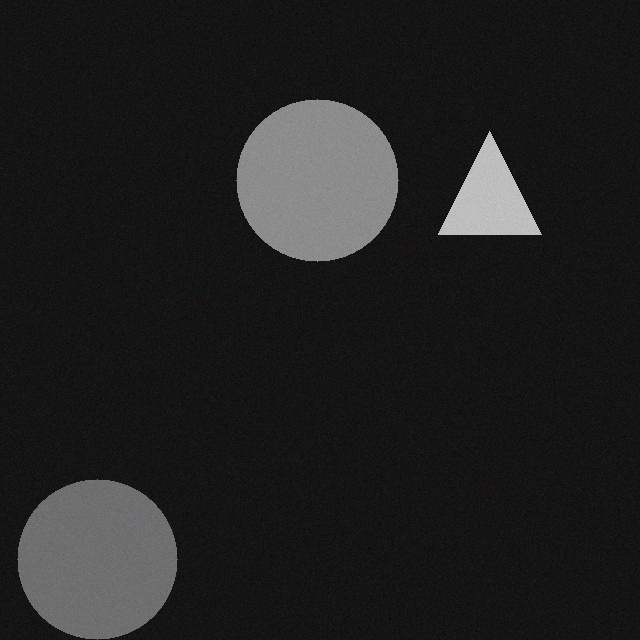circle: (247, 94, 409, 256), (28, 474, 188, 634)
triangle: (449, 126, 552, 229)
